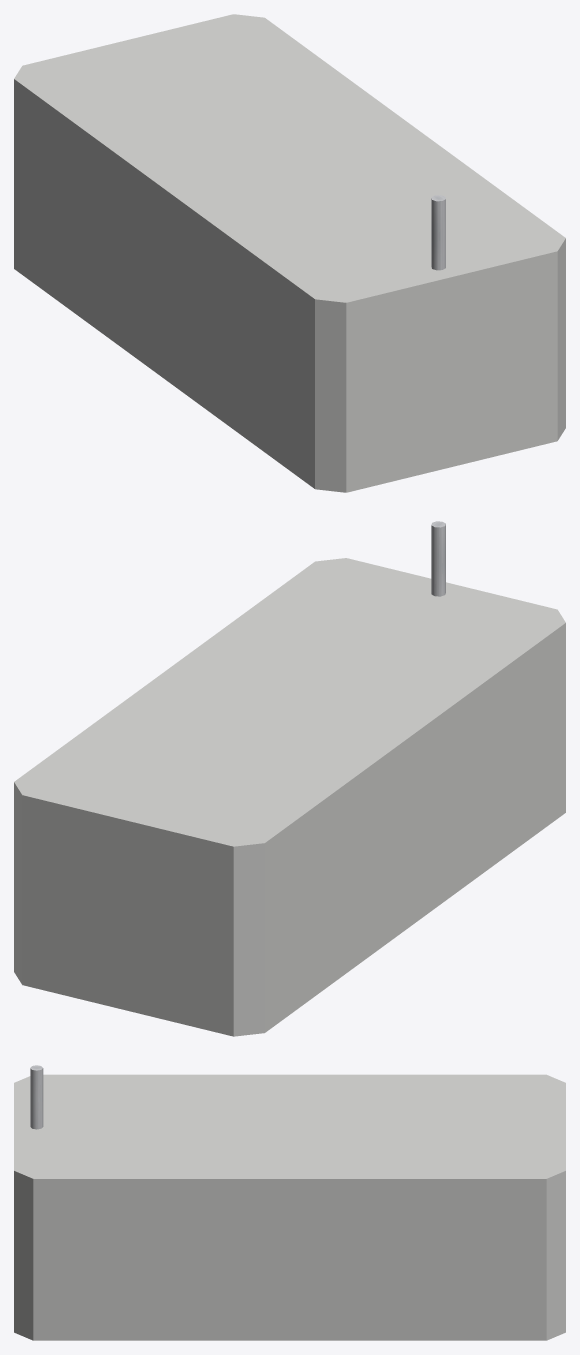
Rendered from bathtub.obj.
The picture shows the model from 3 angles, top to bottom: view 1: azimuth 30°, elevation 25°; view 2: azimuth 150°, elevation 25°; view 3: azimuth 270°, elevation 25°; orthographic projection. The views are drawn at different scales.
Parts seen in each view (by area): view 1: bathtub; view 2: bathtub; view 3: bathtub.
Part boxes in pixels (x1,y1,x2,y2): bathtub: (14, 14, 565, 492); bathtub: (14, 521, 565, 1036); bathtub: (14, 1065, 565, 1340).
Size of the model in its own units: 0.76 by 0.75 by 1.7.
Materials: 2 (1 with a texture image).
